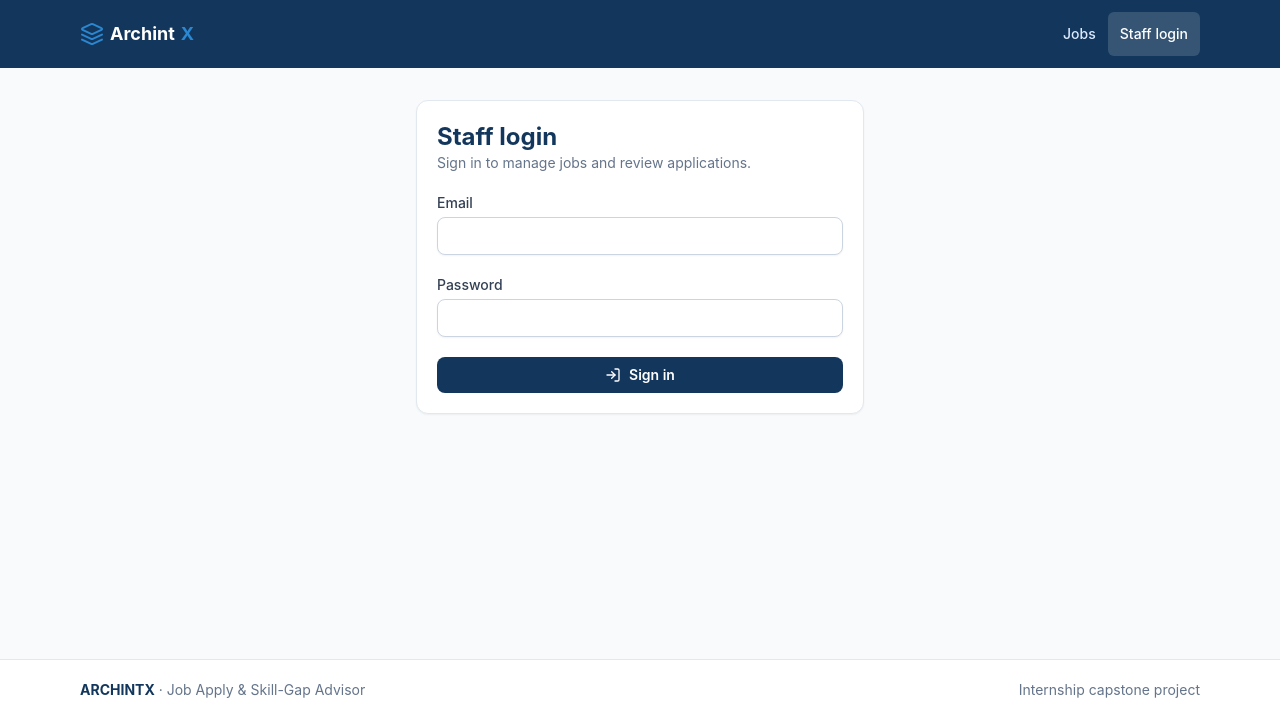
Test: staff login › shows a generic error for invalid credentials
Type "staff@example.com" into the field labelled "Email".
click(640, 236); type("staff@example.com")  # box 437,217 -> 843,255
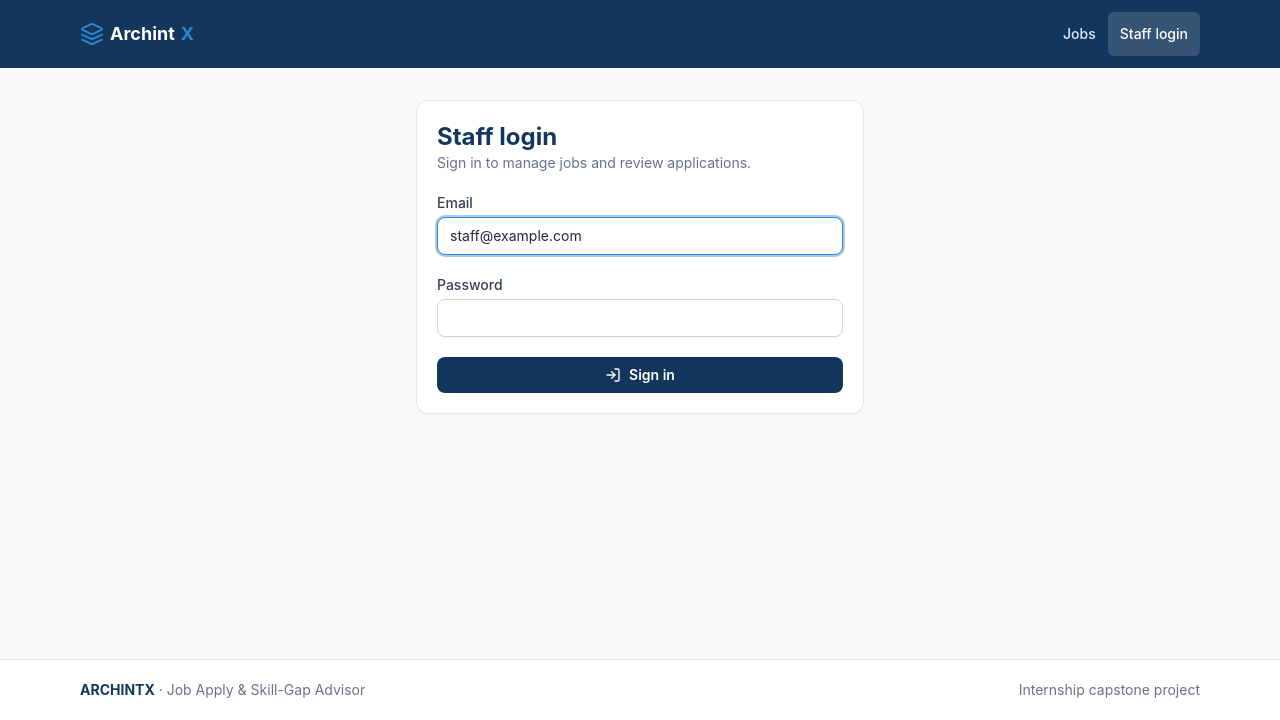
Type "wrong" into the password field labelled "Password".
click(640, 318); type("wrong")  # box 437,299 -> 843,337
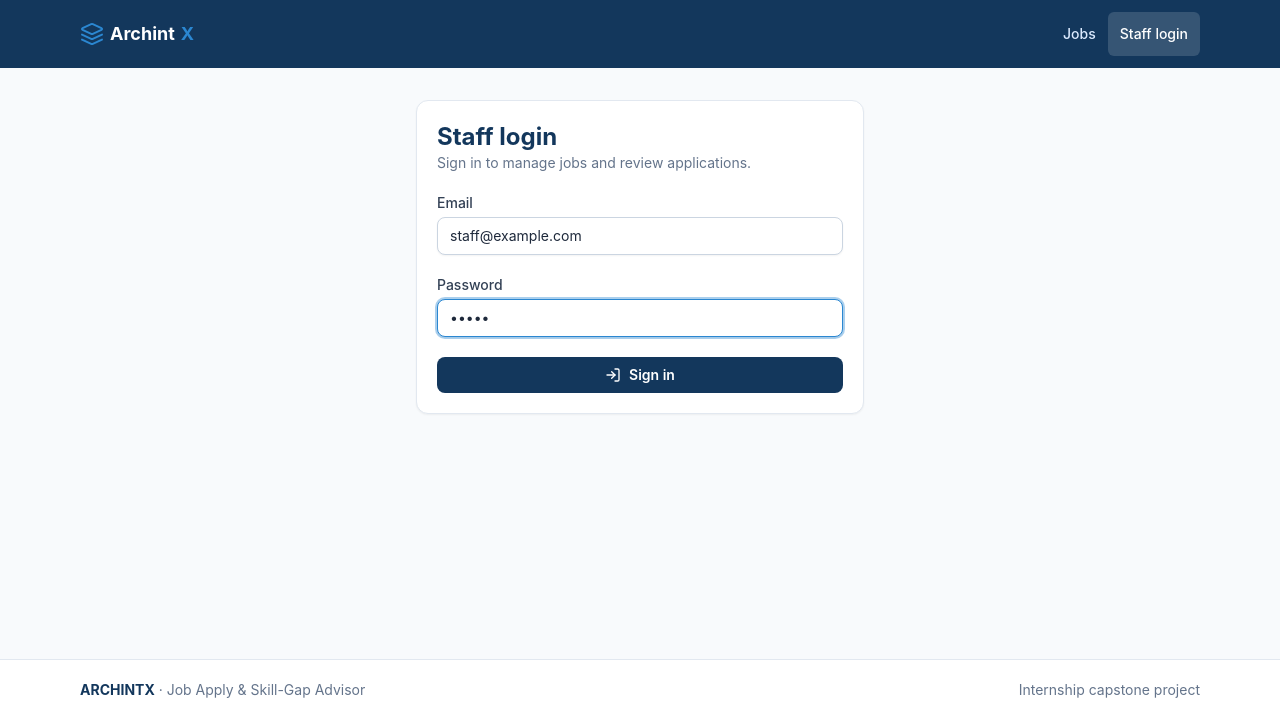
Click the button "Sign in".
click(640, 375)  # box 437,357 -> 843,393
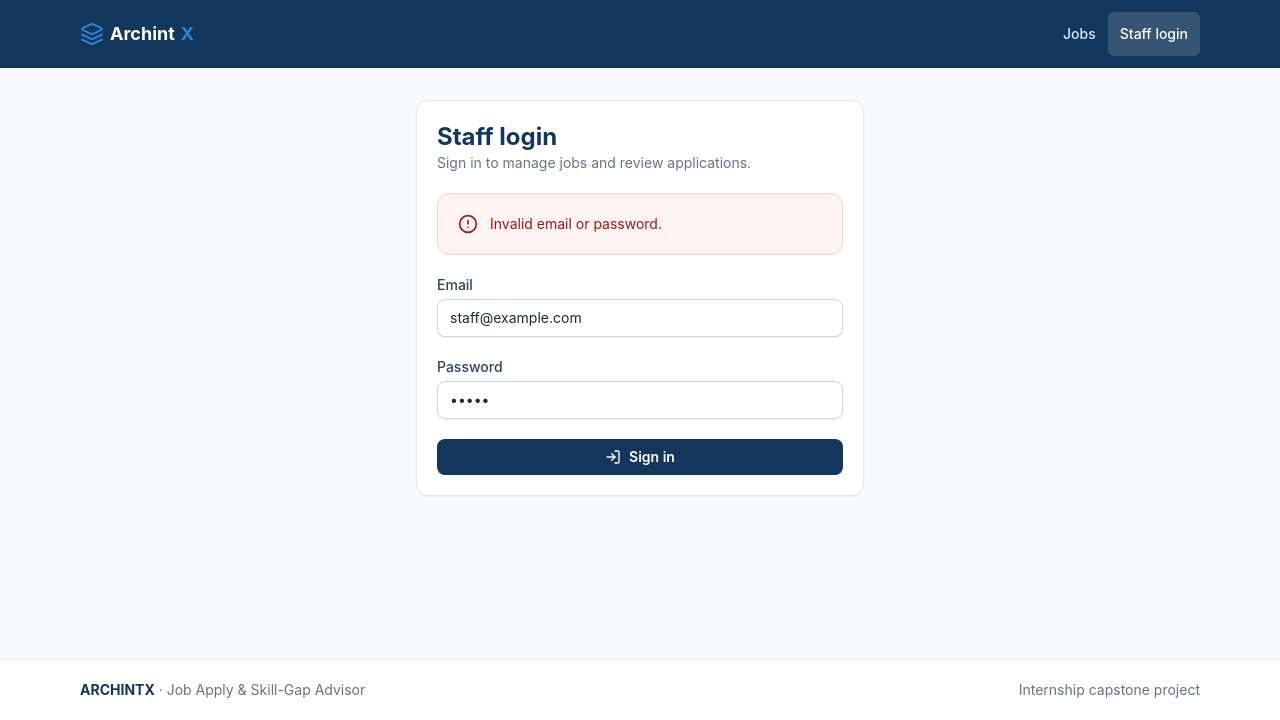
Expected: the message shows "Invalid email or password", 490,215 -> 662,232
